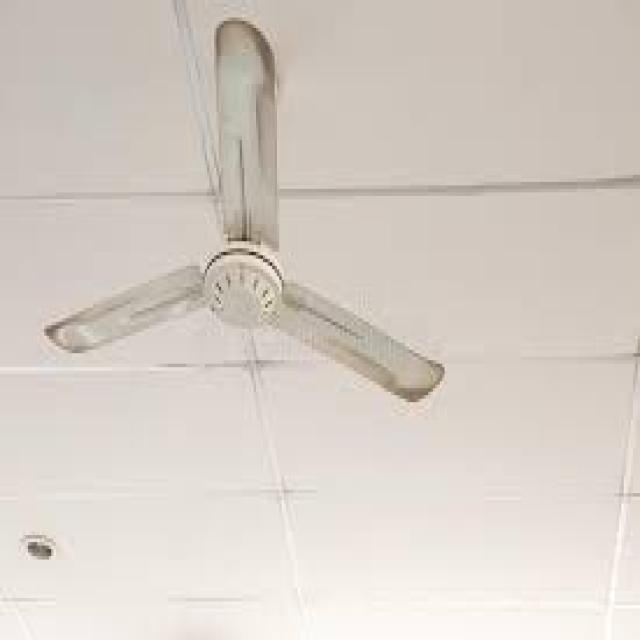fan_off: (43, 22, 444, 399)
